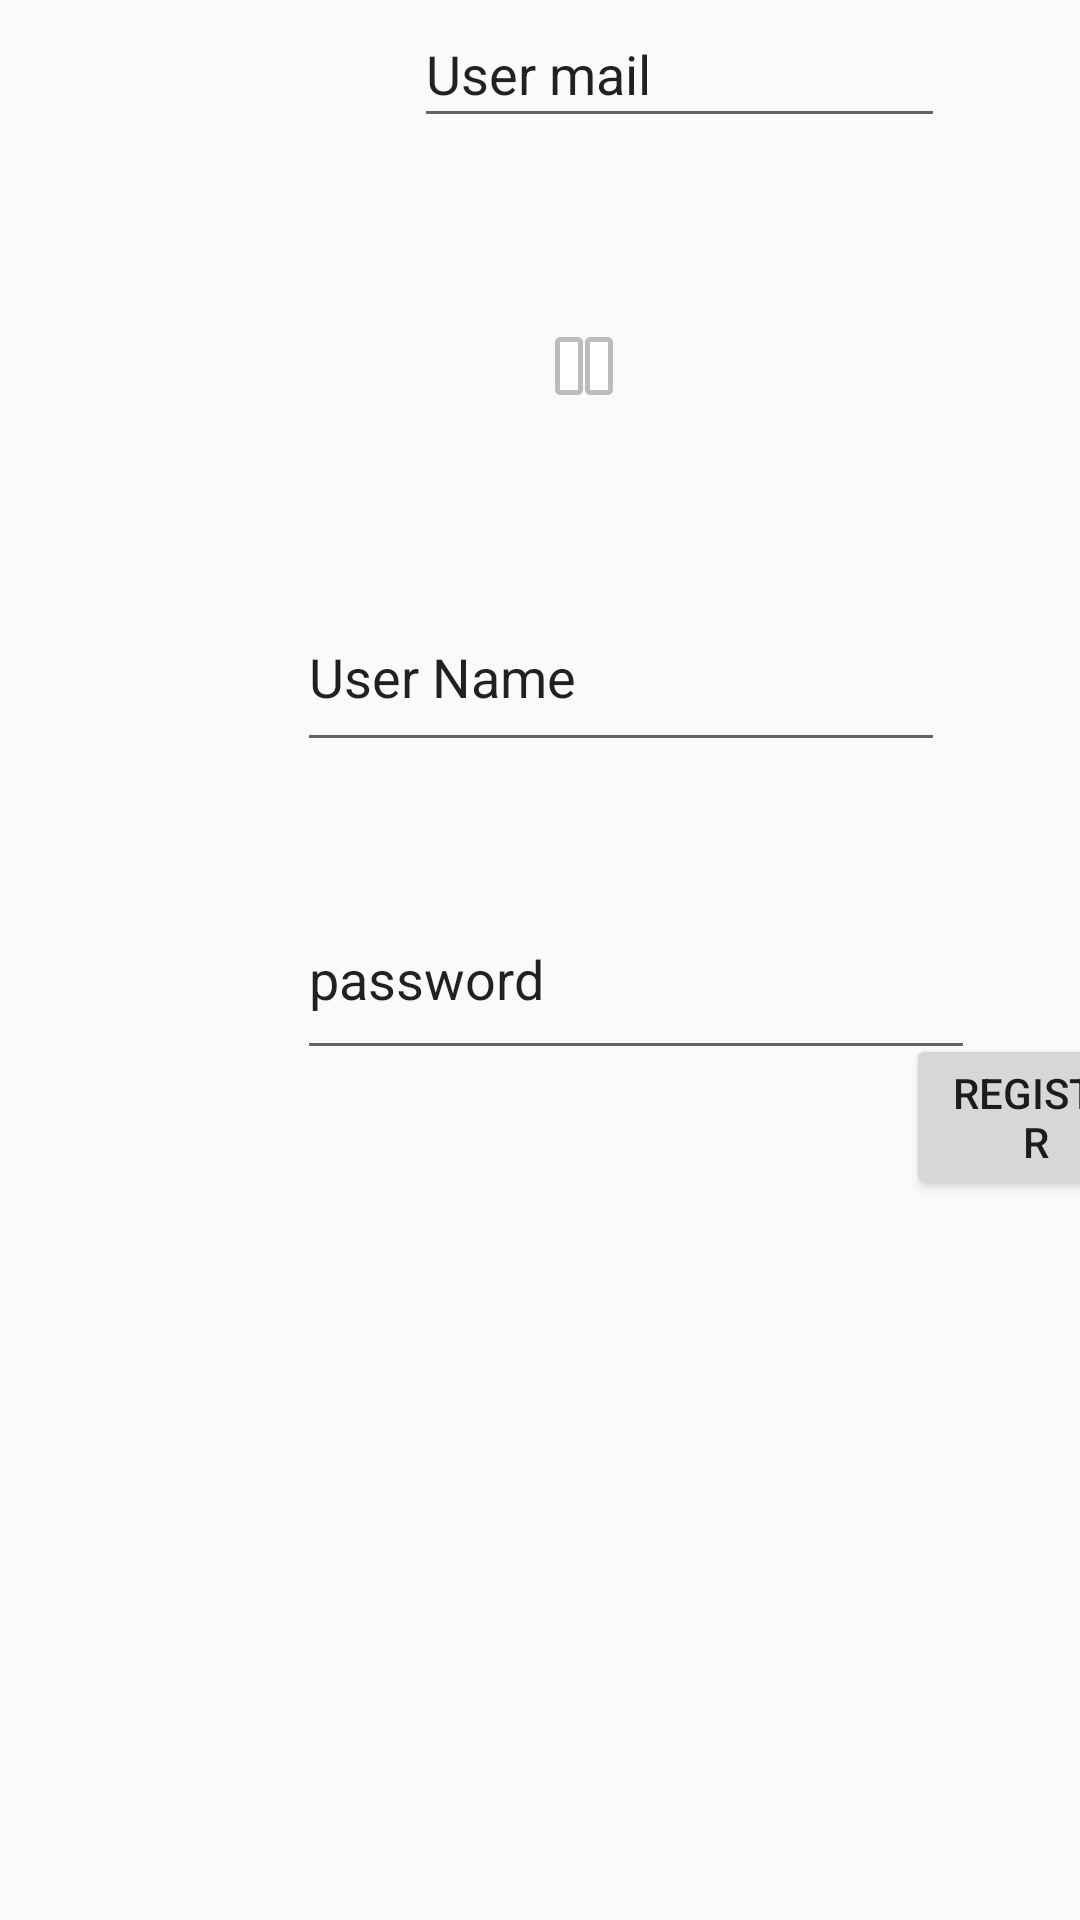

Icon click points for this 1080px×1920px phone screenshot, format (x=x, y=y):
pause: (x=584, y=366)
